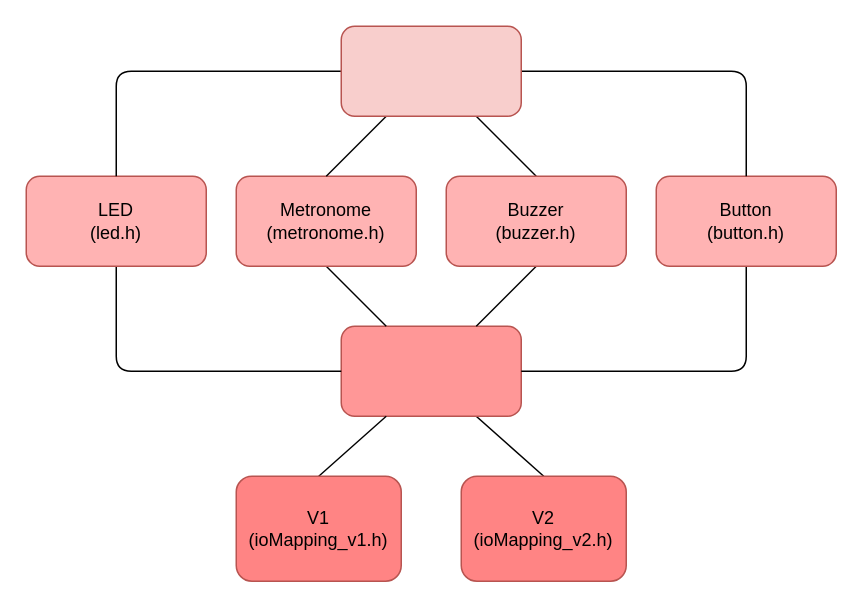
Some shapes in this 863 by 608 pixel diagram are drawn without their labels. The box of each missing label's shape, as (x1, y1, x2, y2) in pixels:
I/O mapping (ioMapping.h): (340, 325, 521, 416)
Main (main.cpp): (340, 25, 521, 116)
